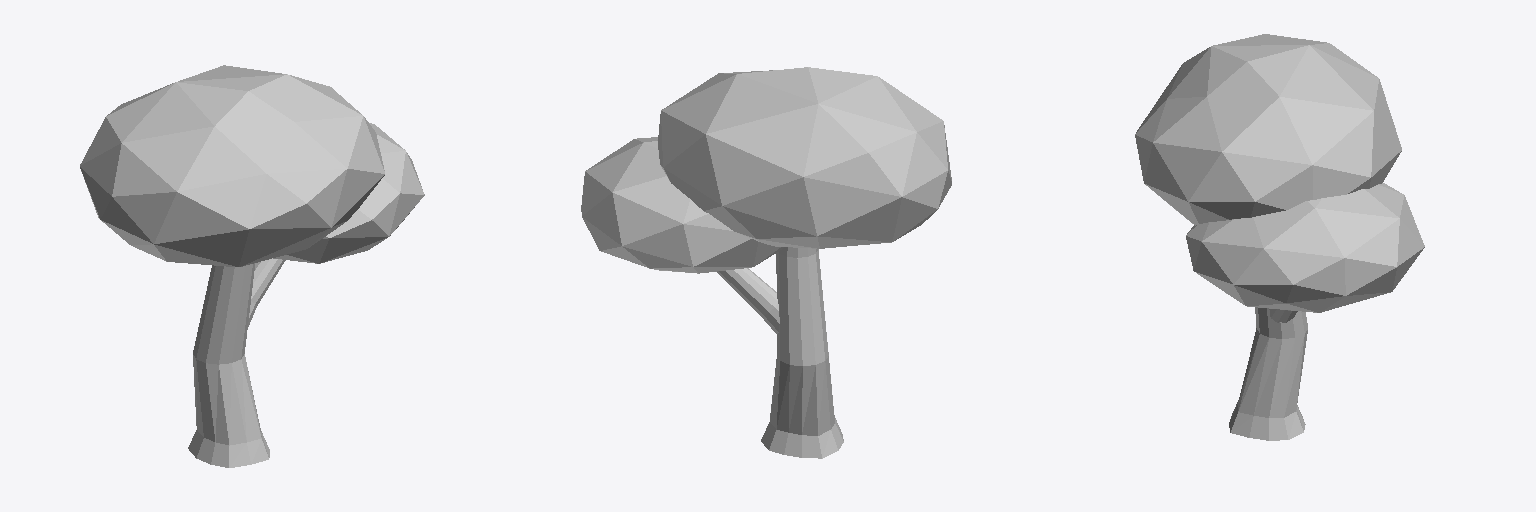
Rendered from TREE_TEST.obj.
The picture shows the model from 3 angles: view 1: azimuth 30°, elevation 25°; view 2: azimuth 150°, elevation 25°; view 3: azimuth 270°, elevation 25°; orthographic projection.
Parts seen in each view (by area): view 1: pSolid1 Tree_A, Tree_A pCylinder57, Tree_A pSolid2, Tree_A pCylinder58; view 2: pSolid1 Tree_A, Tree_A pSolid2, Tree_A pCylinder57, Tree_A pCylinder58; view 3: pSolid1 Tree_A, Tree_A pSolid2, Tree_A pCylinder57.
Part boxes in pixels (x1,y1,x2,y2): pSolid1 Tree_A: (80, 65, 384, 266); Tree_A pCylinder57: (188, 263, 269, 467); Tree_A pSolid2: (273, 123, 424, 263); Tree_A pCylinder58: (248, 258, 285, 326); pSolid1 Tree_A: (658, 67, 951, 248); Tree_A pSolid2: (581, 137, 783, 273); Tree_A pCylinder57: (761, 247, 843, 458); Tree_A pCylinder58: (717, 268, 779, 333); pSolid1 Tree_A: (1135, 34, 1401, 225); Tree_A pSolid2: (1186, 183, 1424, 312); Tree_A pCylinder57: (1229, 307, 1307, 440).
Bounding box in the file's own units: 10.56 × 11.31 × 8.15.